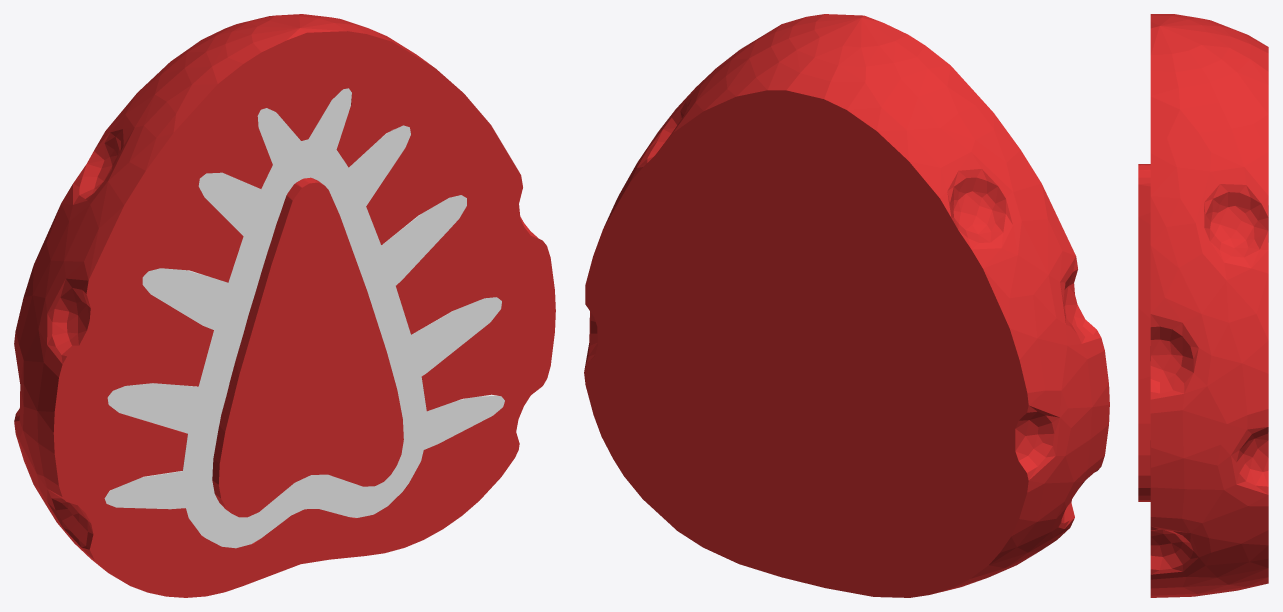
Rendered from cut_strawberry.glb.
3 views of the same model, side by side, from view 1: azimuth 30°, elevation 25°; view 2: azimuth 150°, elevation 25°; view 3: azimuth 270°, elevation 25° (orthographic). The views are drawn at different scales.
Visible parts, largest first — view 1: Sphere.084; view 2: Sphere.084; view 3: Sphere.084.
Part boxes in pixels (x1=…): Sphere.084: x1=14, y1=14, x2=555, y2=597; Sphere.084: x1=584, y1=14, x2=1109, y2=597; Sphere.084: x1=1138, y1=14, x2=1268, y2=597.
Bounding box in the file's own units: 13.45 × 13.86 × 3.16.
